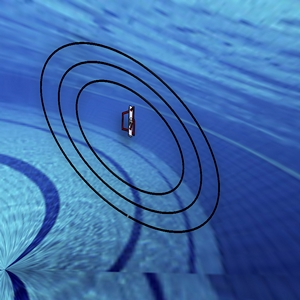circle: (32, 25, 236, 242)
submarine: (112, 101, 145, 145)
